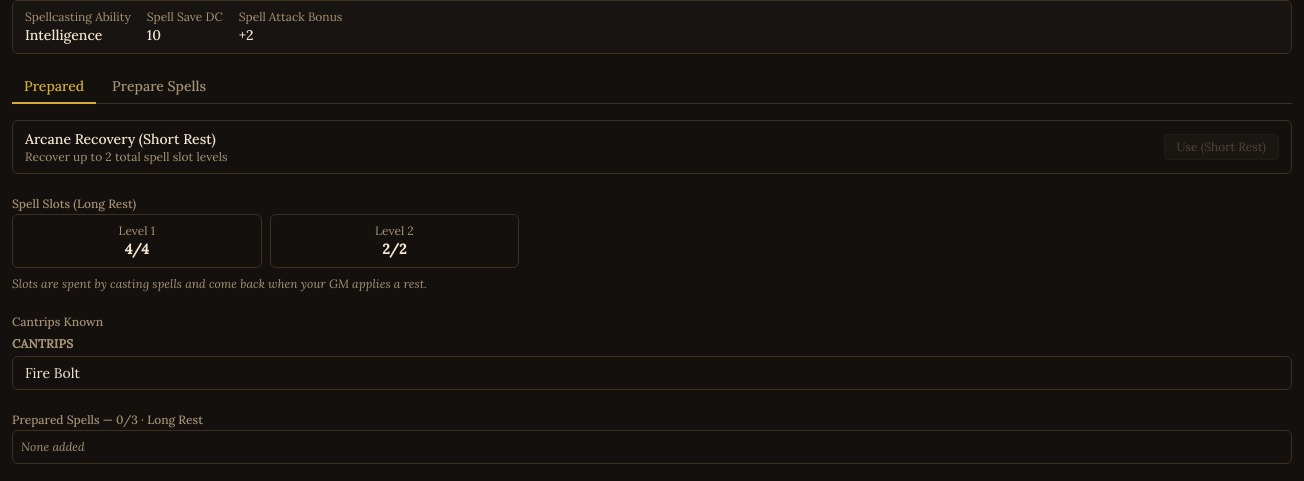
it: WizardSheet prepared spells › renders spellbook spells as toggle chips
The width and height of the screenshot is (1304, 481).
Click the button "Prepare Spells".
click(159, 87)  # box [100, 70, 218, 104]
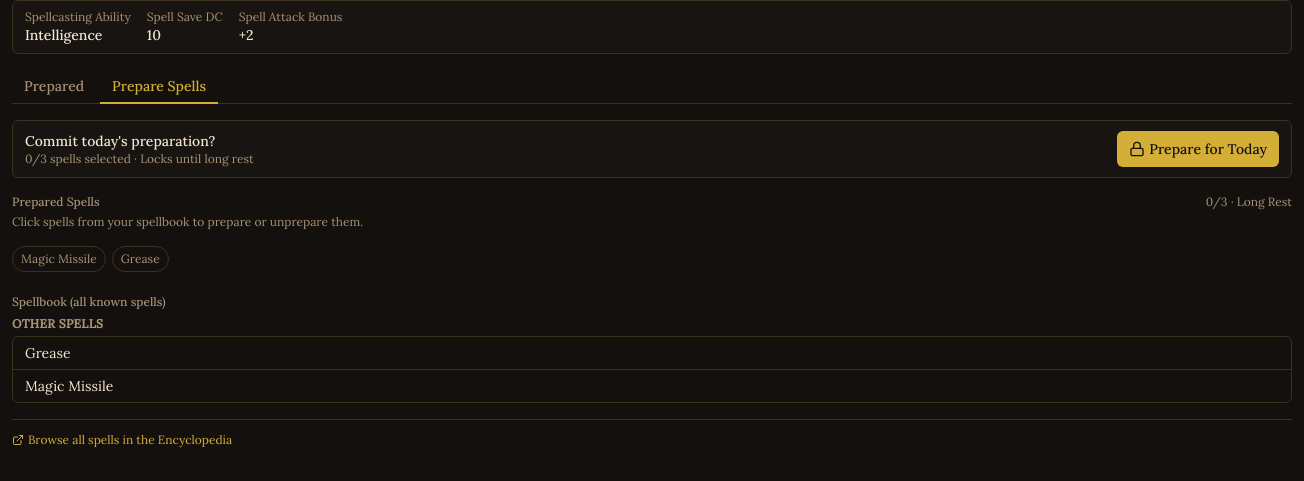
Expected: the 1st button "Magic Missile" is shown, [12, 246, 106, 272]
Expected: the 1st button "Grease" is shown, [112, 246, 169, 272]
